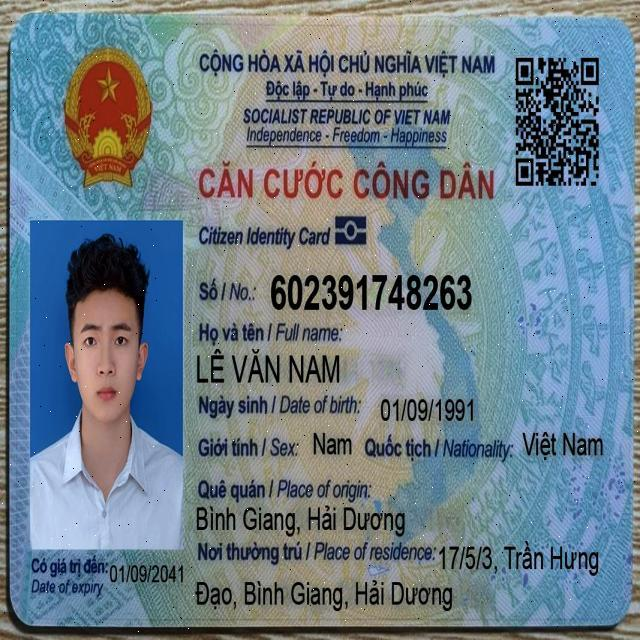current_place: (193, 577, 455, 614), (437, 536, 601, 579)
dob: (377, 393, 477, 428)
expire_date: (107, 560, 186, 588)
gender: (312, 429, 353, 461)
id: (269, 270, 475, 316)
name: (195, 345, 342, 389)
nationality: (520, 429, 605, 464)
origin_place: (194, 501, 407, 538)
qr: (512, 51, 602, 192)
